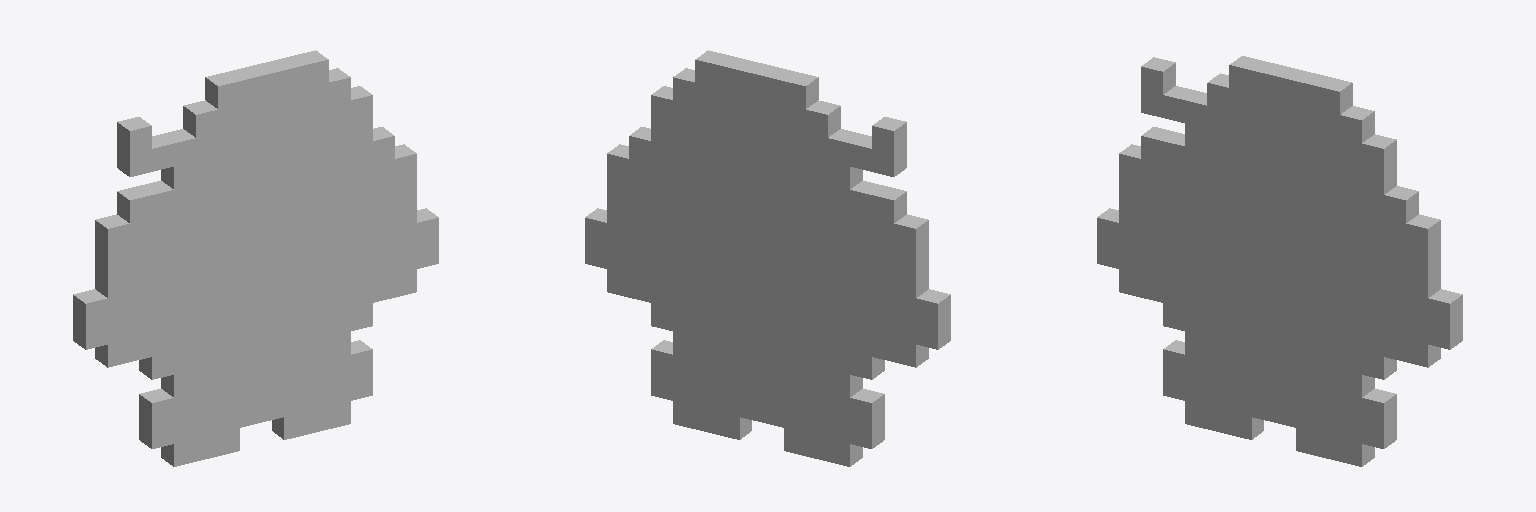
File: walk 1.obj
3 renders of one model, left to right at view 1: azimuth 30°, elevation 25°; view 2: azimuth 150°, elevation 25°; view 3: azimuth 330°, elevation 25°, orthographic.
Visible parts, largest first — view 1: object 1; view 2: object 1; view 3: object 1.
Part boxes in pixels (left/top/right/bottom): object 1: left=73, top=50, right=438, bottom=466; object 1: left=585, top=50, right=950, bottom=466; object 1: left=1097, top=56, right=1462, bottom=466.
Size of the model in its own units: 1.6 by 1.6 by 0.1.